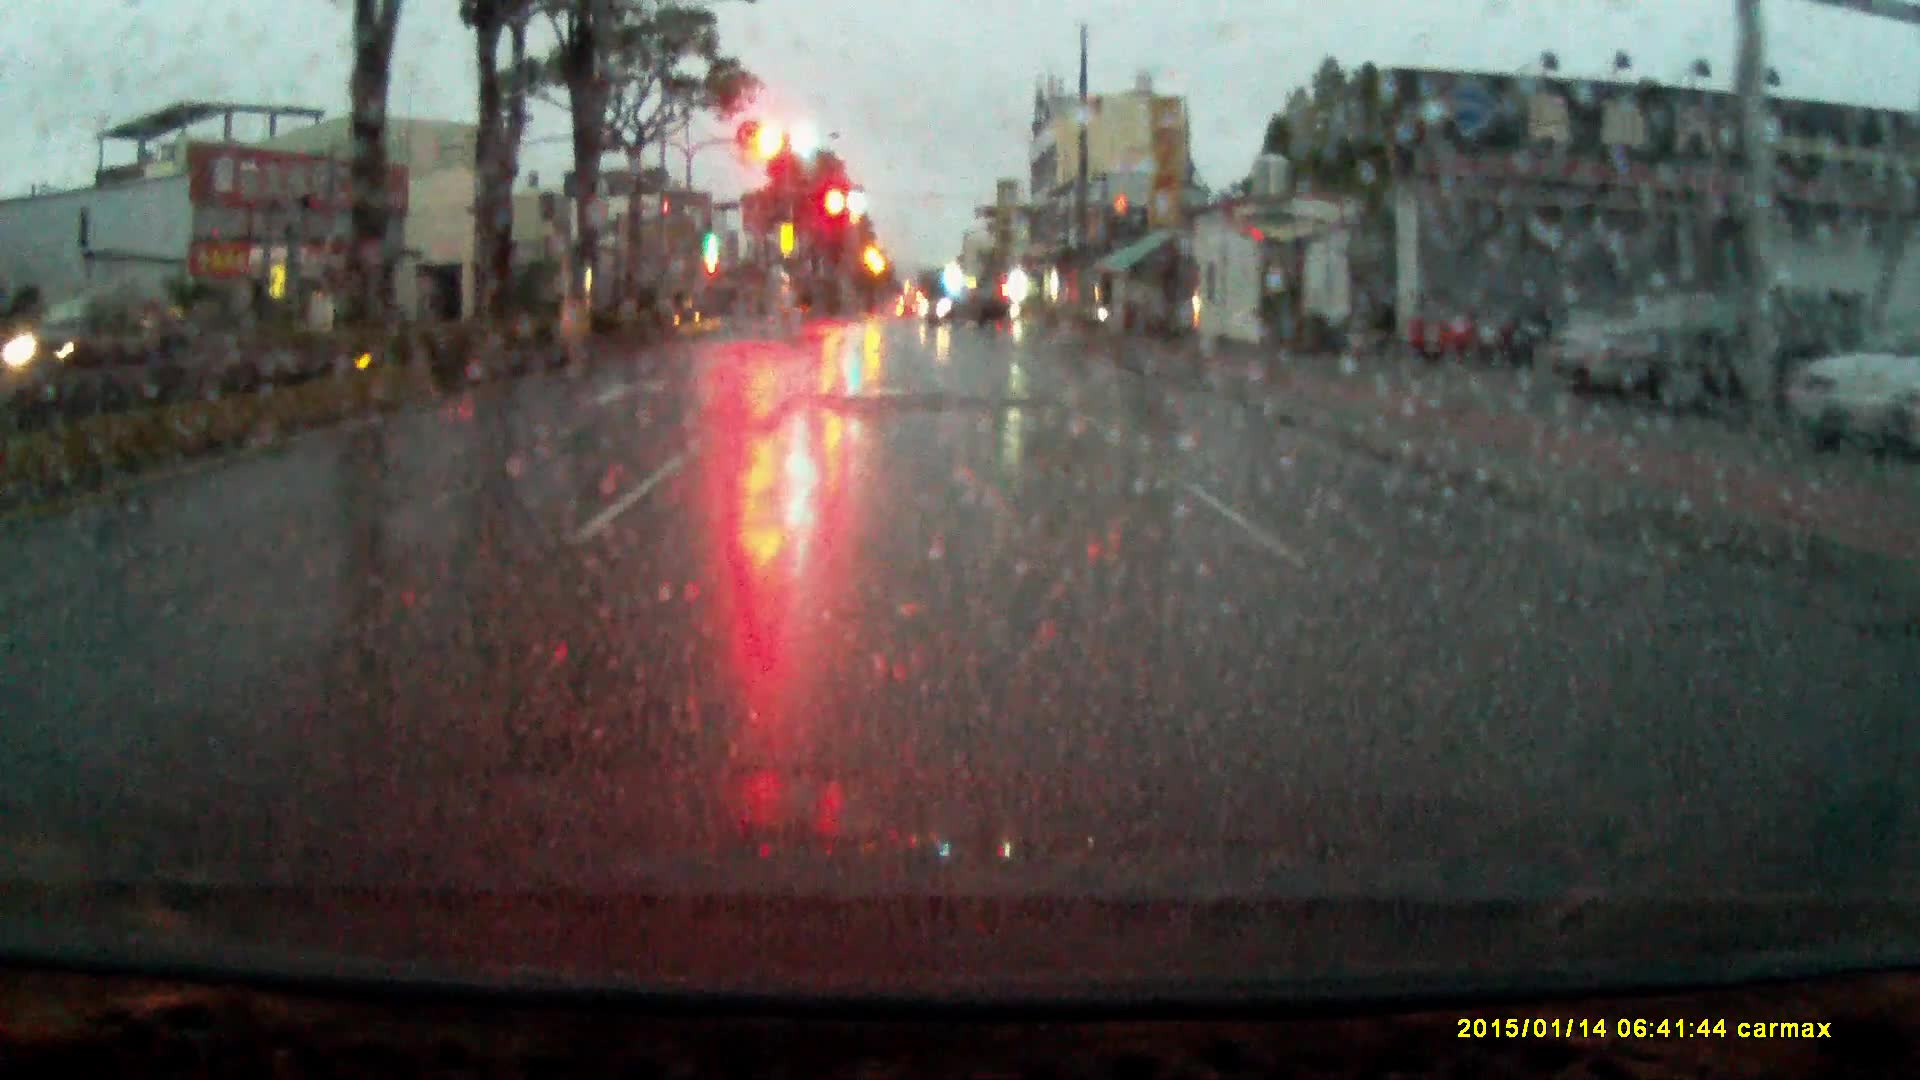vehicle: (1543, 281, 1821, 404), (1615, 284, 1865, 419), (920, 284, 1010, 328)
